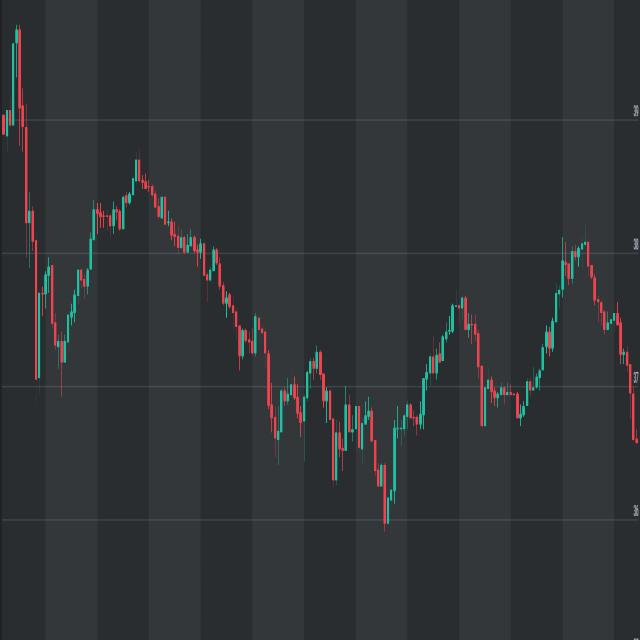Channel-down: (109, 115, 382, 547)
Channel-up: (373, 142, 638, 598)
Inverse-Head-Shoulders: (22, 166, 101, 390)
